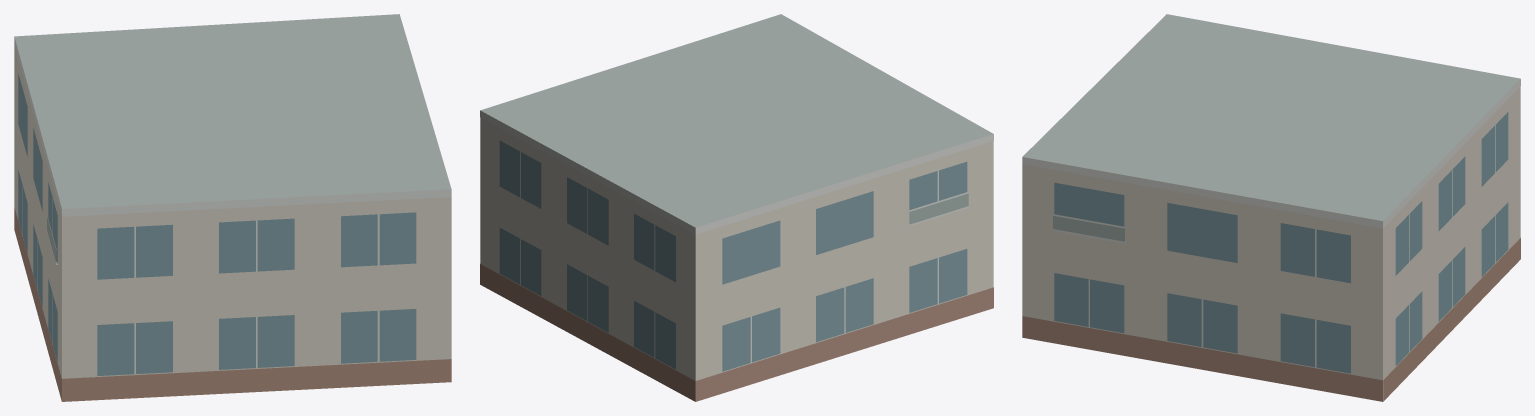
Rendered from survey-upis-32531747.glb.
3 views of the same model, side by side, from view 1: azimuth 30°, elevation 25°; view 2: azimuth 150°, elevation 25°; view 3: azimuth 270°, elevation 25° (orthographic). The views are drawn at different scales.
Parts seen in each view (by area): view 1: survey-upis-32531747.tmp; view 2: survey-upis-32531747.tmp; view 3: survey-upis-32531747.tmp.
Boxes of the visible parts, x1,y1,x2,y2 form: survey-upis-32531747.tmp: (14,14,451,401); survey-upis-32531747.tmp: (480,14,993,401); survey-upis-32531747.tmp: (1022,14,1520,401).
Size of the model in its own units: 15.01 by 6.1 by 15.26.
